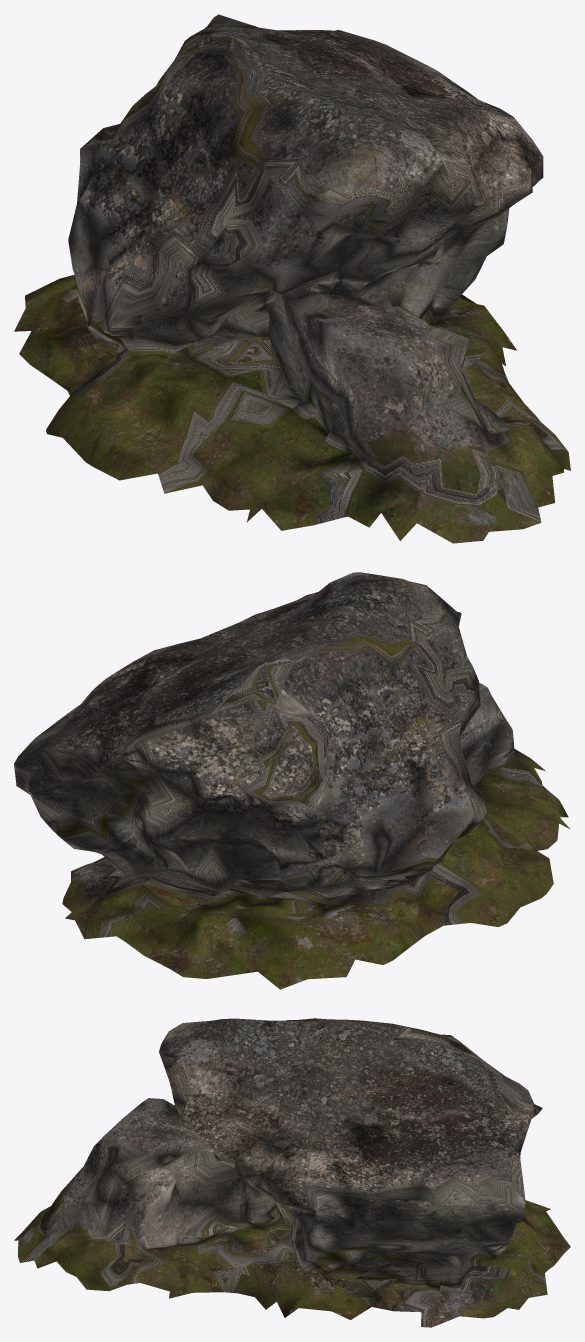
The model's file is boulder-erratic.glb.
3 views of the same model, one above another, from view 1: azimuth 30°, elevation 25°; view 2: azimuth 150°, elevation 25°; view 3: azimuth 270°, elevation 25° (orthographic). The views are drawn at different scales.
Visible parts, largest first — view 1: vi2gecbmw_LOD0_TIER0_000; view 2: vi2gecbmw_LOD0_TIER0_000; view 3: vi2gecbmw_LOD0_TIER0_000.
Part boxes in pixels (x1,y1,x2,y2): vi2gecbmw_LOD0_TIER0_000: (14,14,570,543); vi2gecbmw_LOD0_TIER0_000: (14,572,569,989); vi2gecbmw_LOD0_TIER0_000: (14,1018,570,1327).
Bounding box in the file's own units: 6.53 × 4.04 × 8.87.
1 material, 1 textured.
